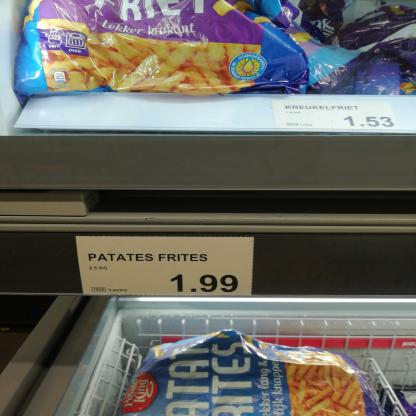prtg: (75, 237, 254, 297), (272, 101, 403, 132)
